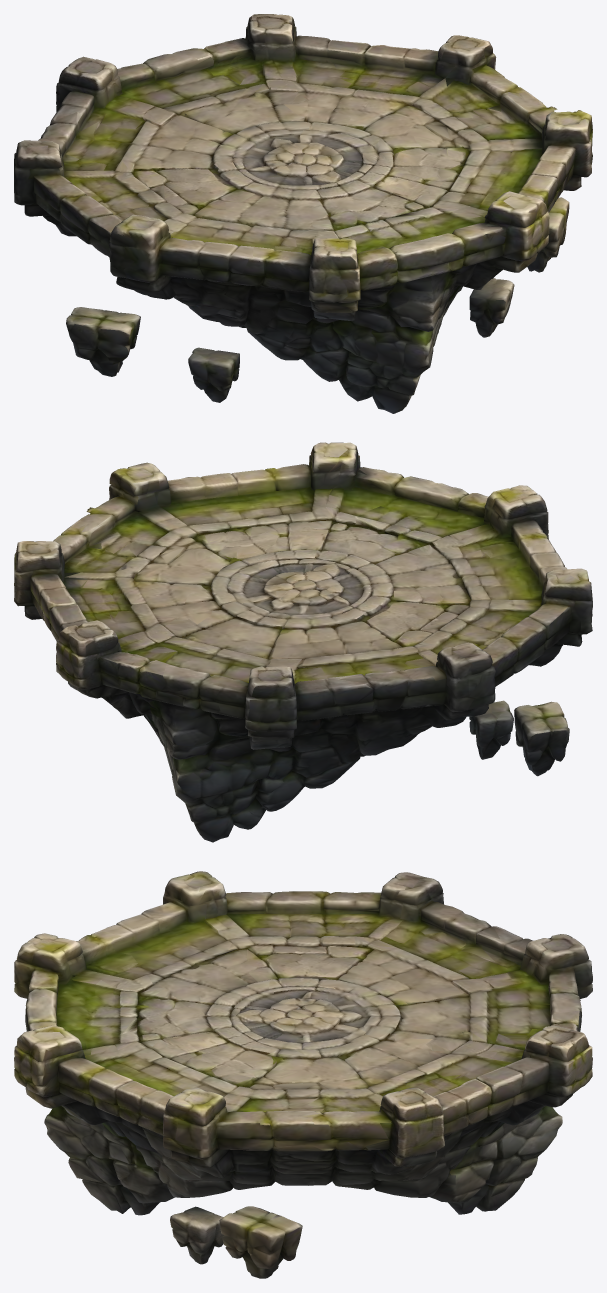
File: Island_Arena.fbx
The picture shows the model from 3 angles, top to bottom: view 1: azimuth 30°, elevation 25°; view 2: azimuth 150°, elevation 25°; view 3: azimuth 270°, elevation 25°; orthographic projection. The views are drawn at different scales.
Visible parts, largest first — view 1: Island_Arena; view 2: Island_Arena; view 3: Island_Arena.
Boxes of the visible parts, x1,y1,x2,y2 form: Island_Arena: [14, 14, 592, 413]; Island_Arena: [14, 442, 592, 842]; Island_Arena: [14, 871, 592, 1278].
Size of the model in its own units: 1350 by 550 by 1300.
Materials: 1 (1 with a texture image).
